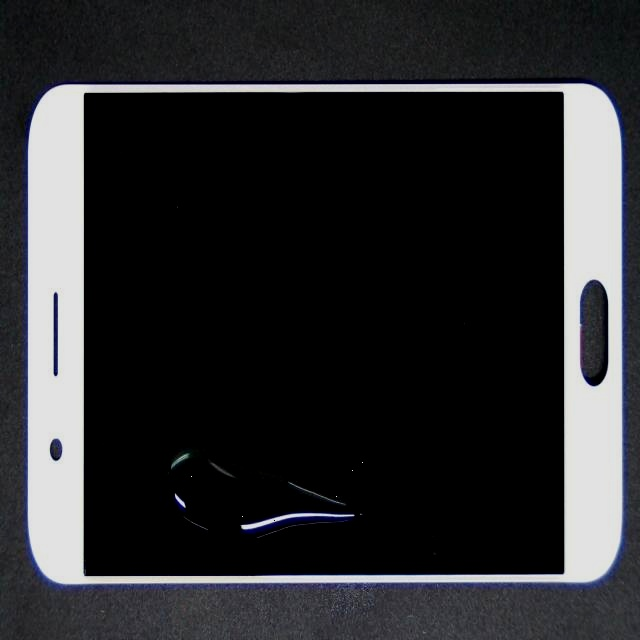oil: (212, 256, 397, 640)
